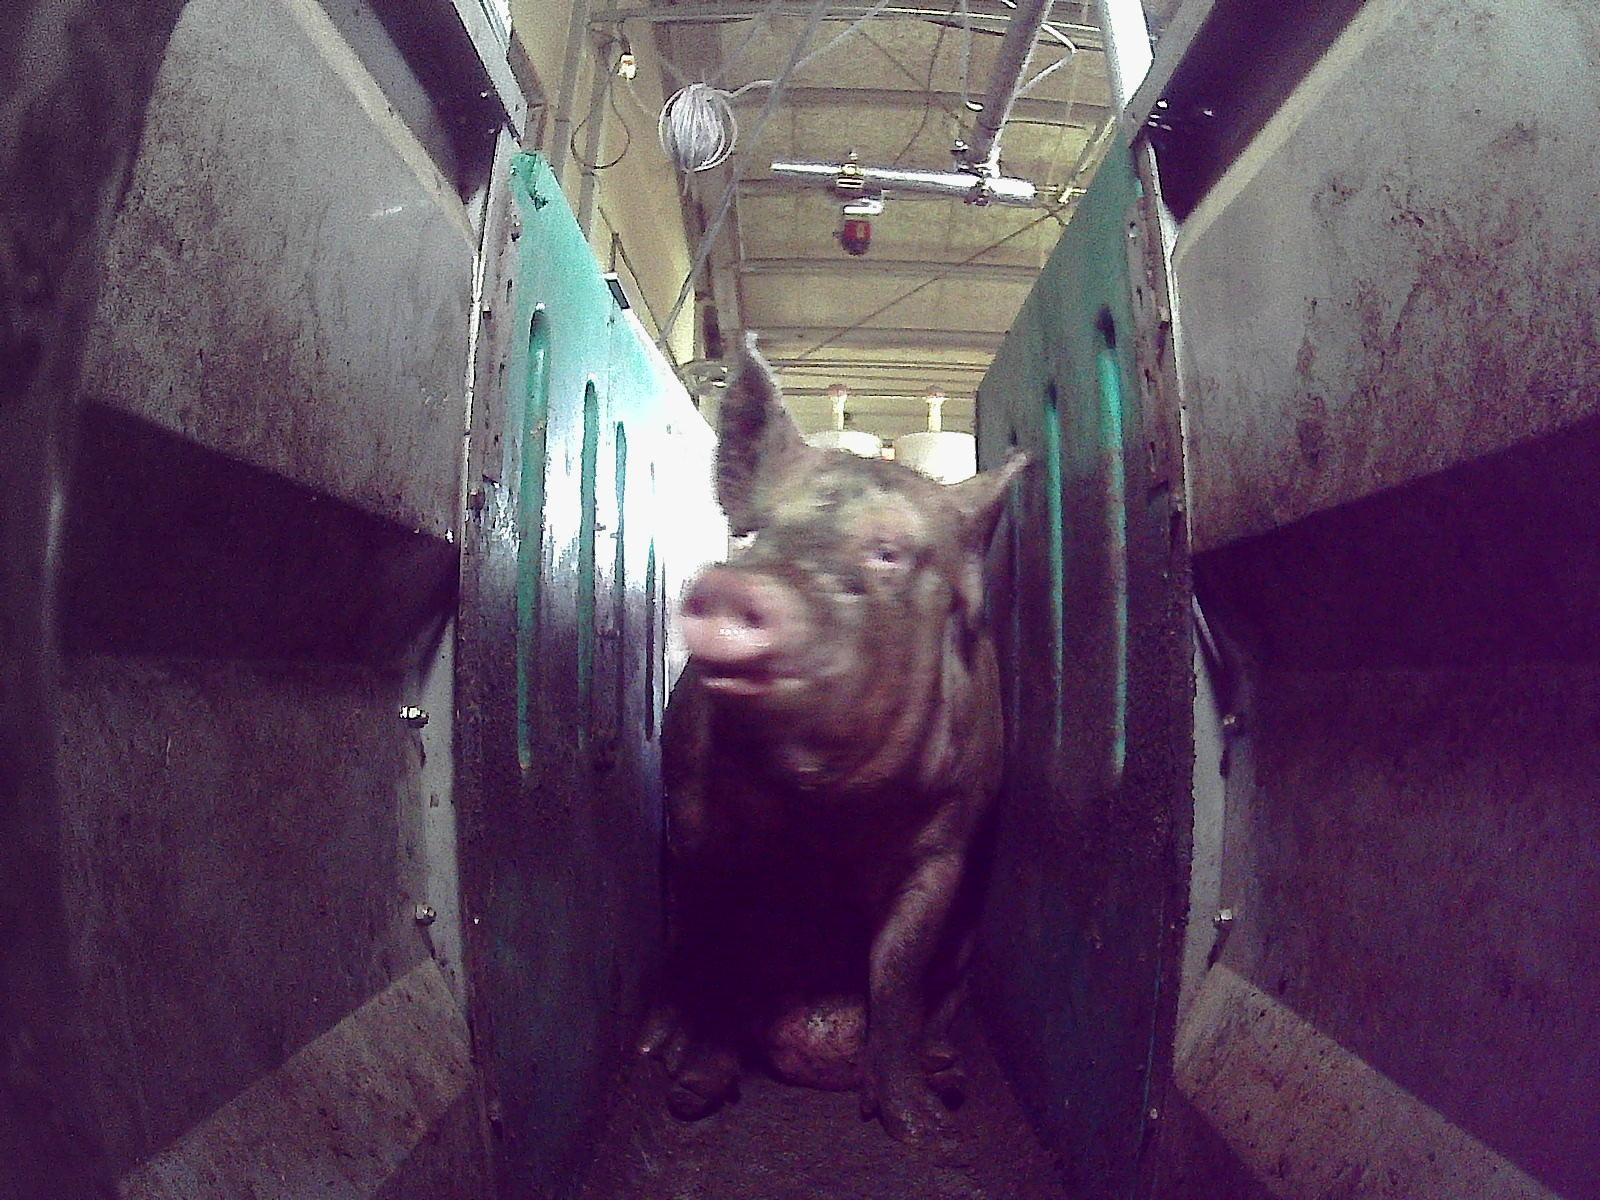Face: (676, 453, 983, 808)
